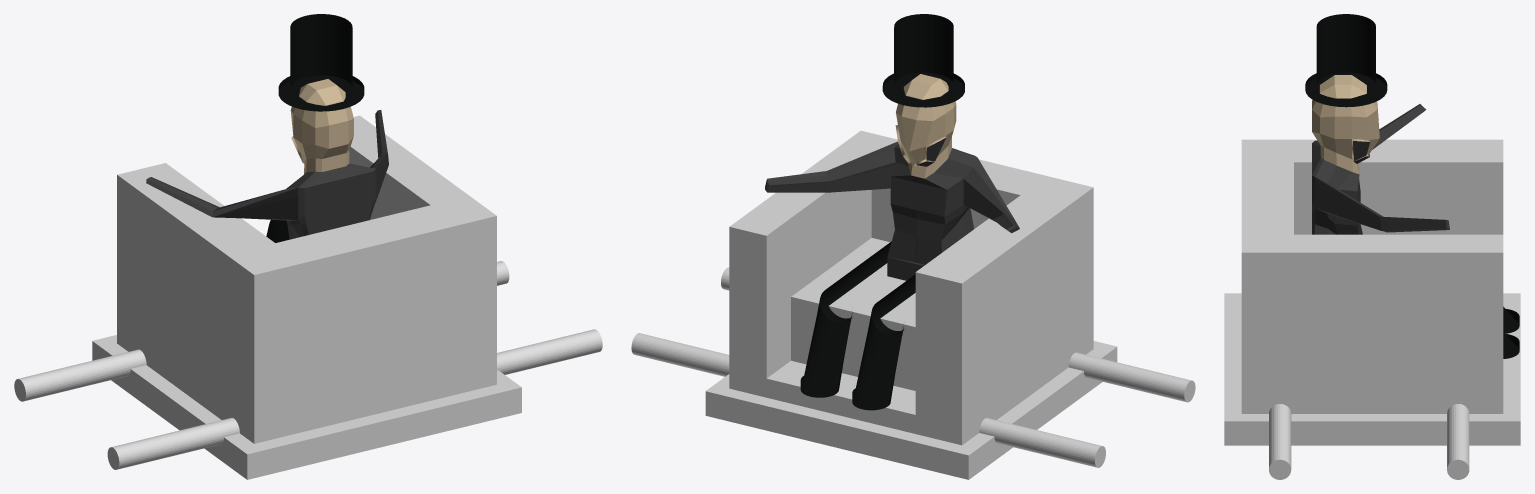
The model's file is lincoln chair with character.fbx.
3 views of the same model, side by side, from view 1: azimuth 30°, elevation 25°; view 2: azimuth 150°, elevation 25°; view 3: azimuth 270°, elevation 25° (orthographic). The views are drawn at different scales.
Visible parts, largest first — view 1: Cube, Cube.001; view 2: Cube, Cube.001; view 3: Cube, Cube.001.
Boxes of the visible parts, x1,y1,x2,y2 form: Cube: (14,115,602,479); Cube.001: (146,14,388,242); Cube: (631,130,1195,479); Cube.001: (765,14,1019,410); Cube: (1224,139,1520,479); Cube.001: (1305,14,1519,358).
Bounding box in the file's own units: 1398 × 1029 × 777.
